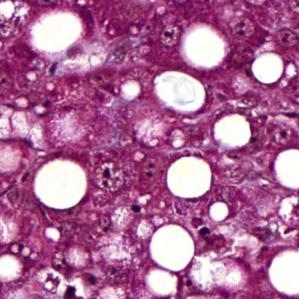steatosis: (29, 160, 92, 212), (148, 71, 208, 114), (148, 223, 198, 272), (165, 154, 214, 202)
